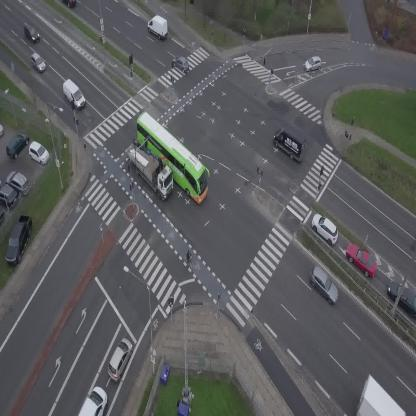bicycle: (182, 250, 197, 270)
bus: (122, 109, 221, 206)
car: (341, 238, 383, 282), (303, 264, 345, 307), (103, 336, 137, 384), (306, 209, 344, 247), (78, 384, 115, 416), (20, 22, 43, 45), (26, 51, 48, 75), (170, 53, 193, 75), (302, 55, 323, 73), (59, 0, 76, 8)
lorry: (119, 135, 183, 202), (343, 374, 408, 416), (268, 122, 313, 164), (58, 77, 89, 110), (144, 12, 173, 41)
